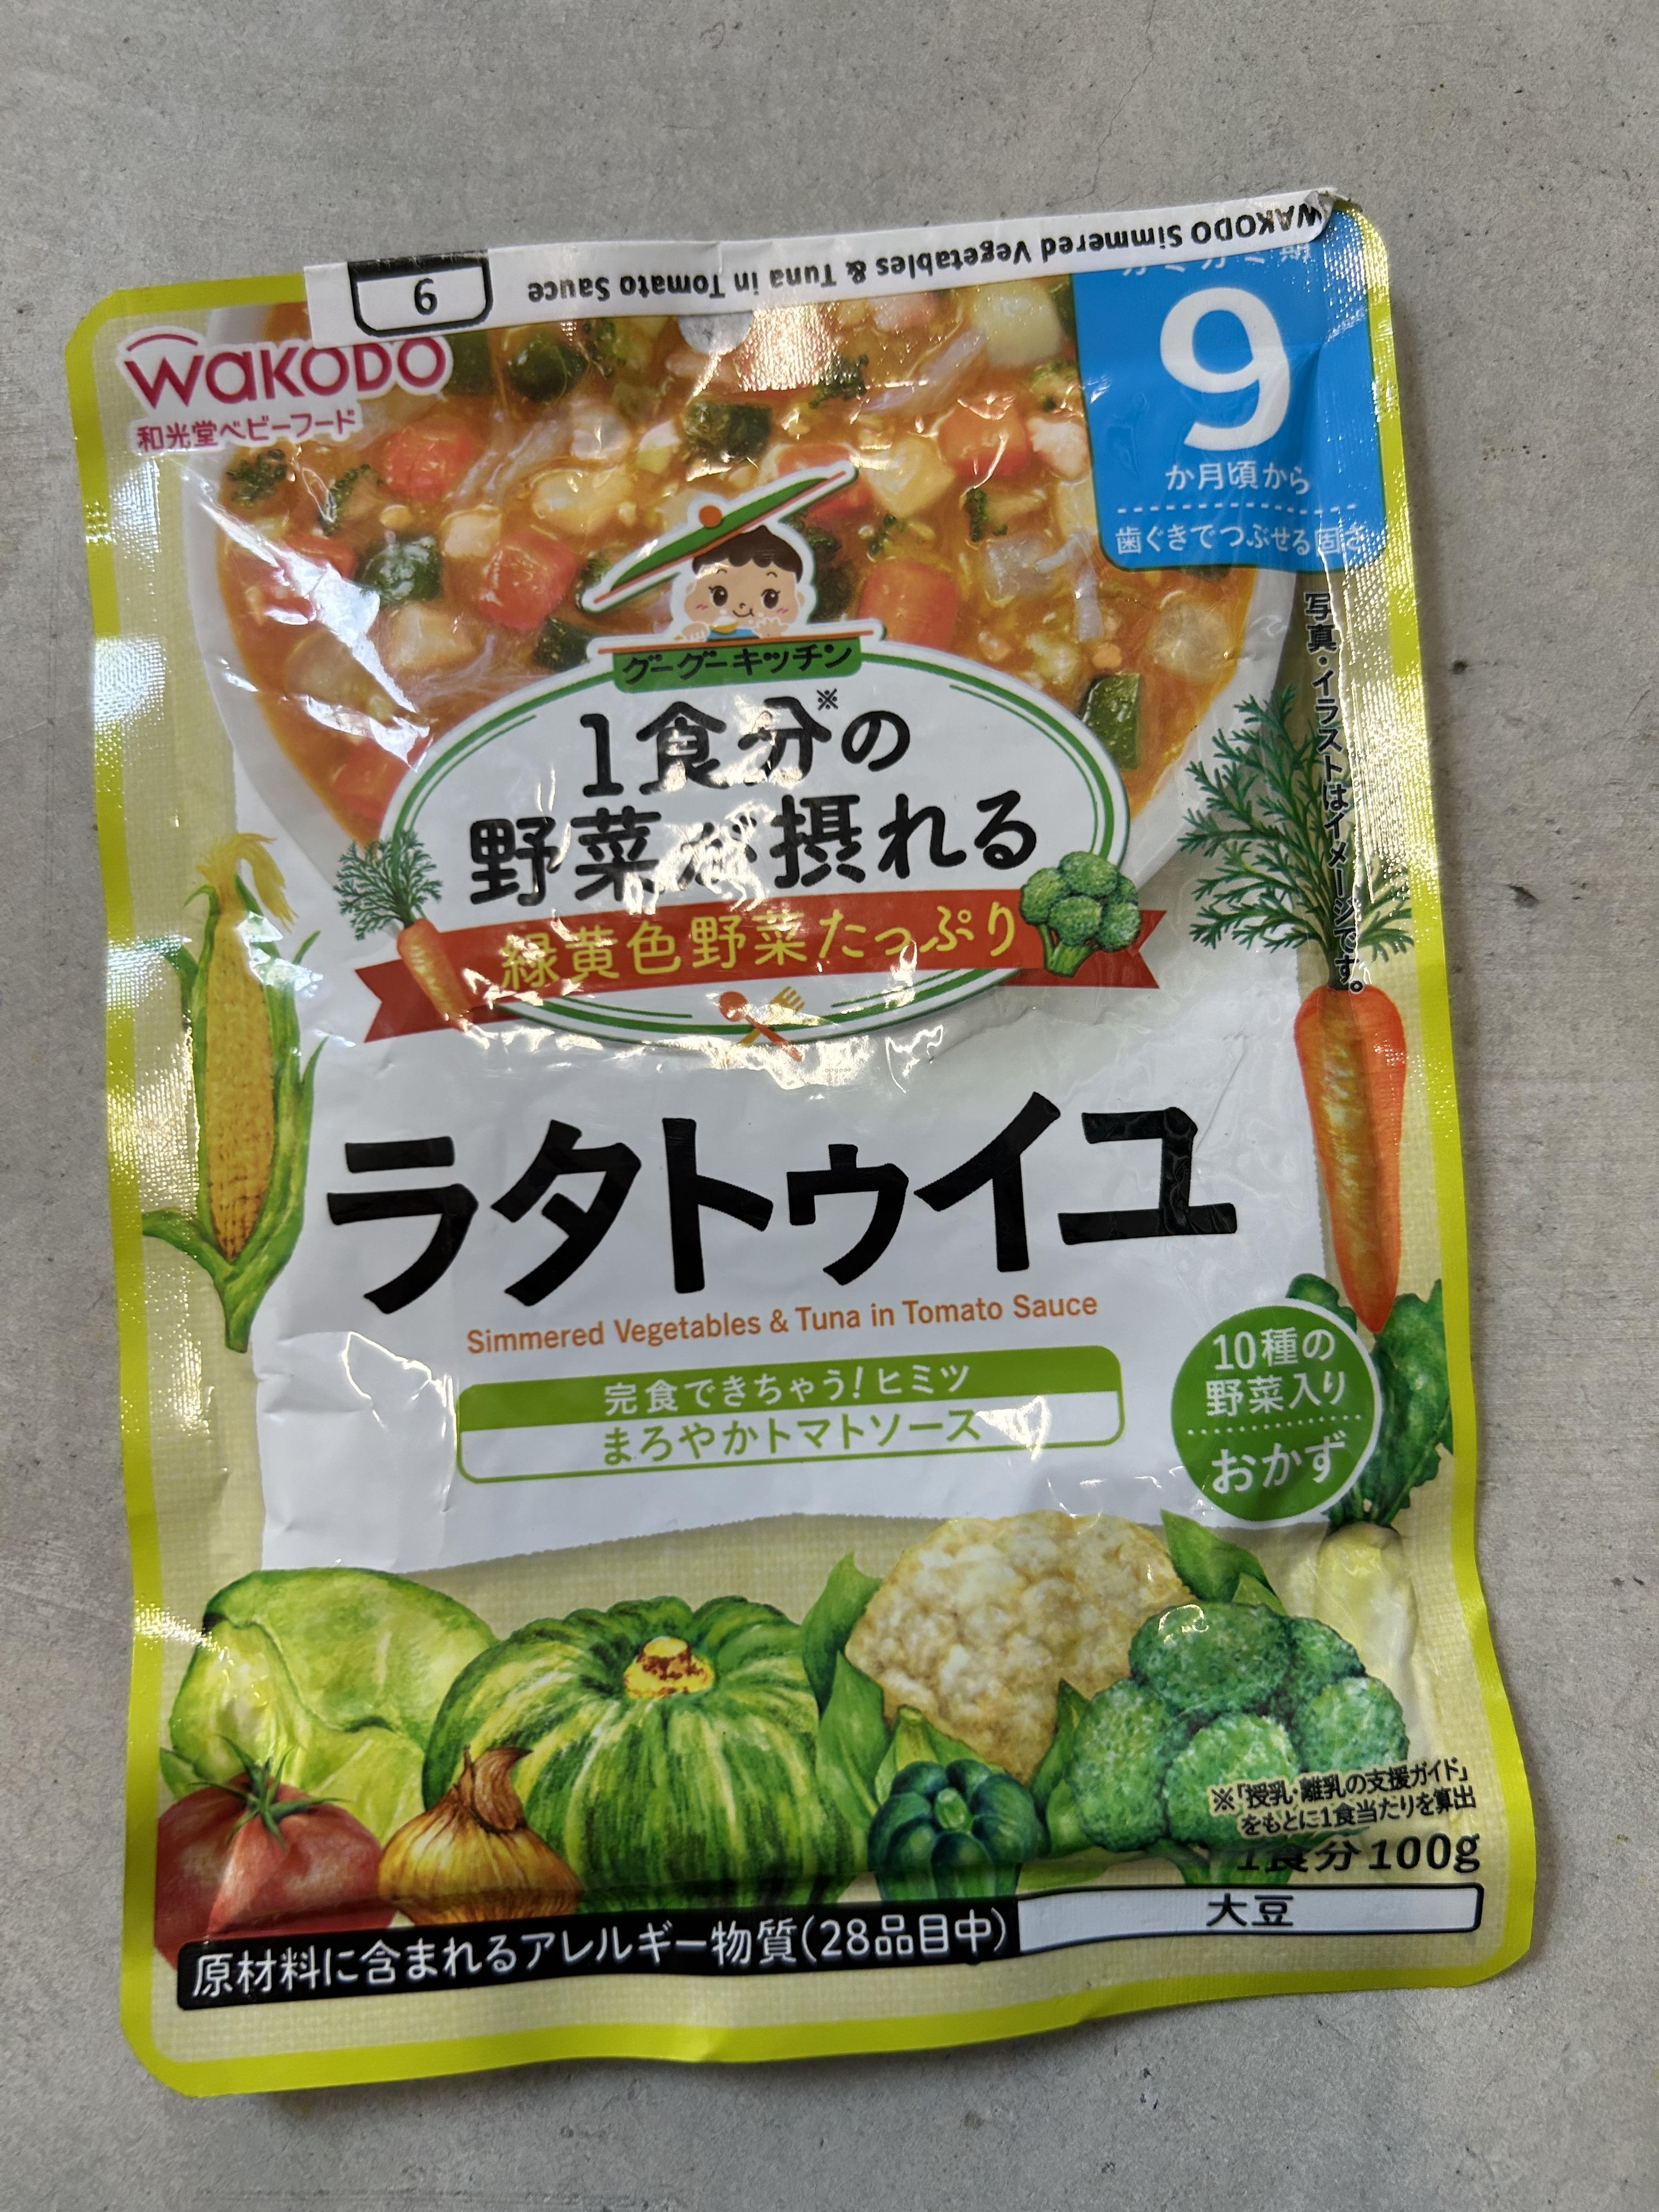object_name: (99, 294, 1486, 1963)
